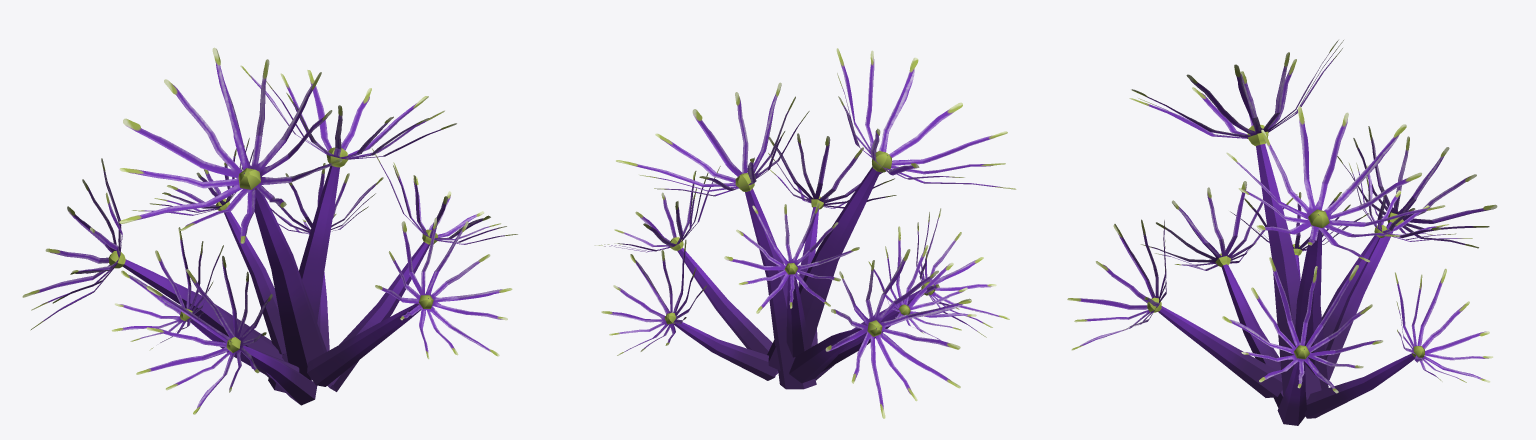
Rendered from FBX_PLANTE_FLEUR2.fbx.
3 views of the same model, side by side, from view 1: azimuth 30°, elevation 25°; view 2: azimuth 150°, elevation 25°; view 3: azimuth 270°, elevation 25° (orthographic). The views are drawn at different scales.
Visible parts, largest first — view 1: PLANTES_FLEURTYPE2; view 2: PLANTES_FLEURTYPE2; view 3: PLANTES_FLEURTYPE2.
Boxes of the visible parts, left/top/right/bottom form: PLANTES_FLEURTYPE2: left=22, top=47, right=517, bottom=414; PLANTES_FLEURTYPE2: left=594, top=48, right=1016, bottom=418; PLANTES_FLEURTYPE2: left=1067, top=40, right=1497, bottom=425.
Size of the model in its own units: 16.58 by 13.35 by 14.89.
